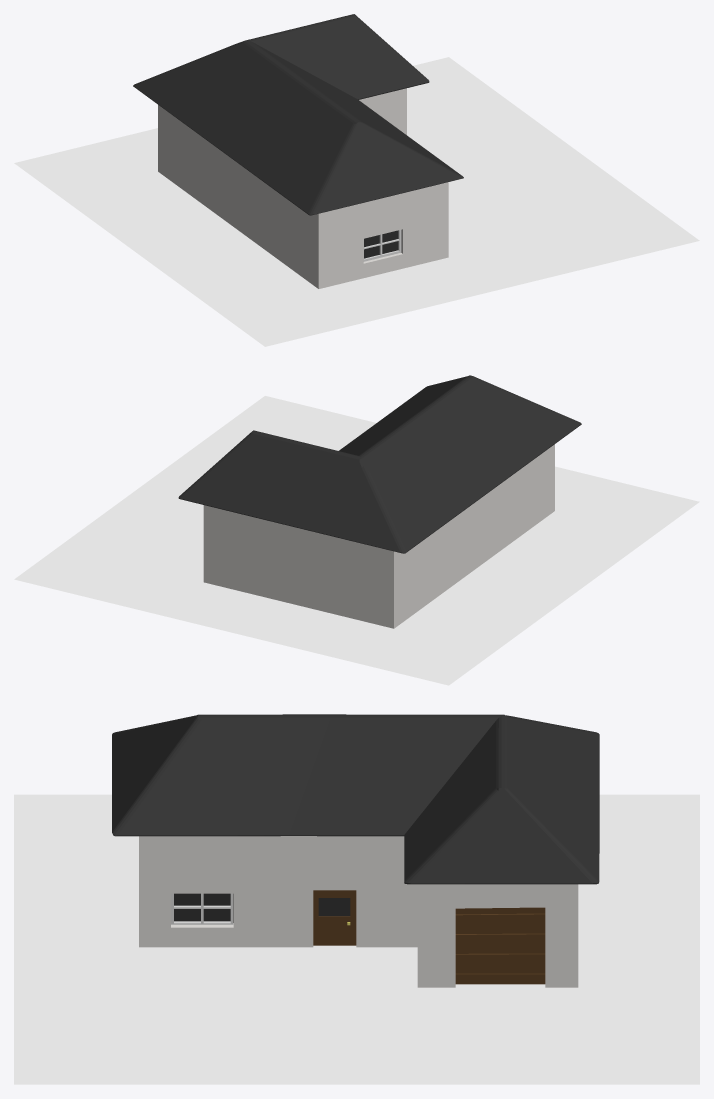
Rendered from house_1.glb.
3 views of the same model, one above another, from view 1: azimuth 30°, elevation 25°; view 2: azimuth 150°, elevation 25°; view 3: azimuth 270°, elevation 25° (orthographic). The views are drawn at different scales.
Parts seen in each view (by area): view 1: Plane.003, casa_1; view 2: casa_1, Plane.003; view 3: Plane.003, casa_1, puertas, Cube.007.
Boxes of the visible parts, x1,y1,x2,y2 form: Plane.003: (14,57,699,346); casa_1: (133,14,463,288); casa_1: (178,375,581,628); Plane.003: (14,396,699,685); Plane.003: (14,794,699,1084); casa_1: (112,714,599,987); puertas: (313,890,545,984); Cube.007: (171,893,233,924).
Size of the model in its own units: 2 by 0.5989 by 2.
1 material, 1 textured.
